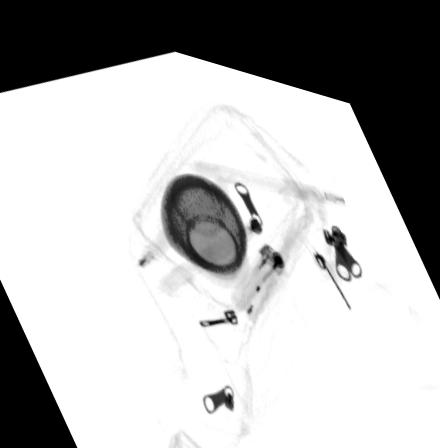Lighter: (231, 226, 286, 308)
